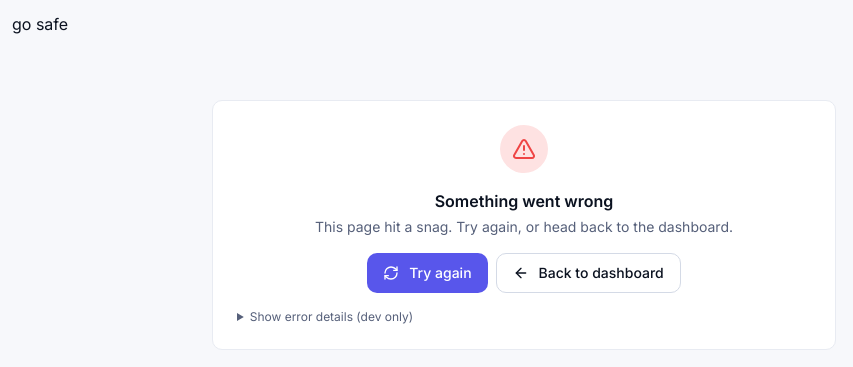
Test case: RouteErrorBoundary › auto-resets when the route changes (real navigation bite)
The image size is (853, 367).
Expected: the heading "Something went wrong" is shown, left=435, top=191, right=613, bottom=211
Expected: the text "safe page content" is not shown
Click the link "go safe".
click(40, 24)  # box left=12, top=14, right=68, bottom=34
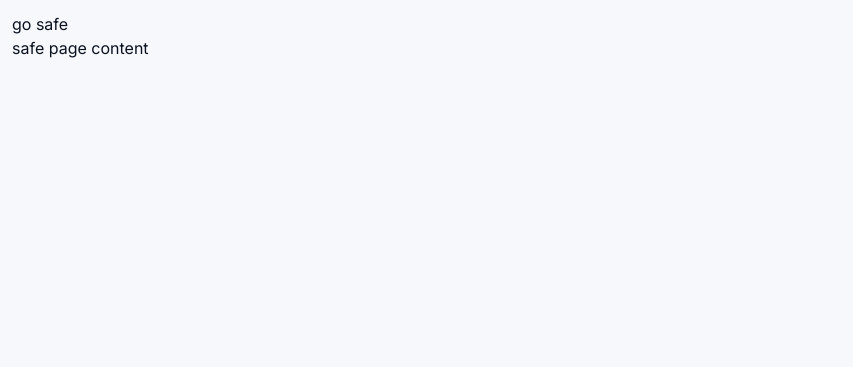
Result: the text "safe page content" is shown at left=12, top=38, right=149, bottom=58
Result: the heading "Something went wrong" is gone
